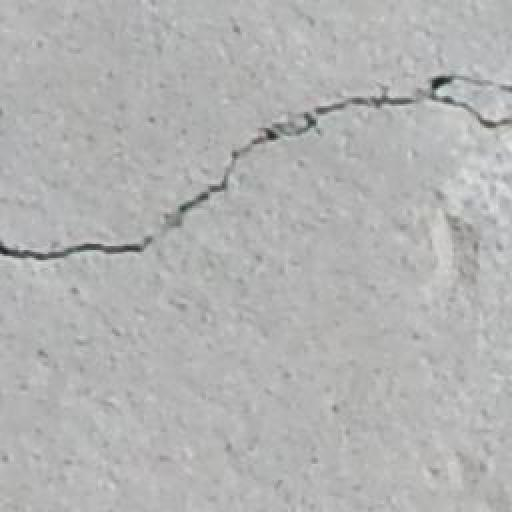spalling: (7, 69, 508, 270)
